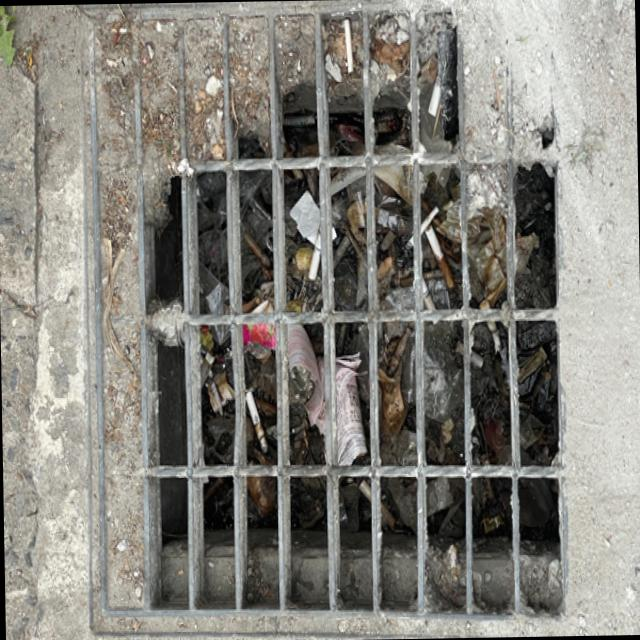drain_area: (145, 340, 423, 609), (142, 179, 184, 315)
drain_full: (86, 3, 569, 617)
